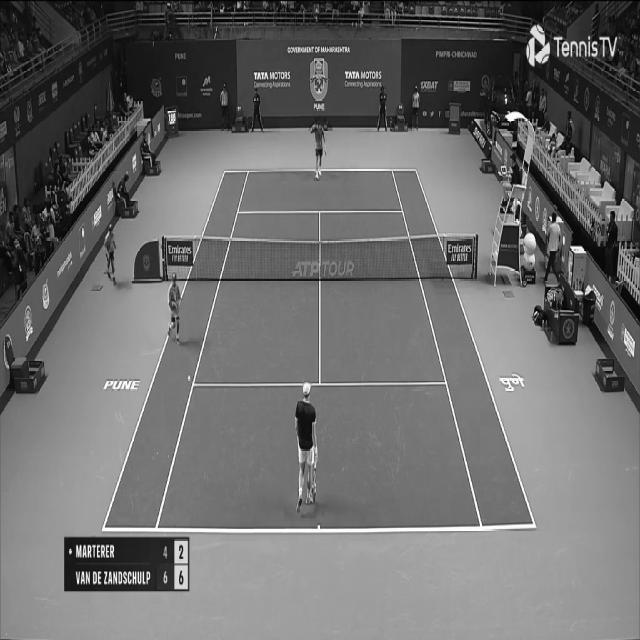tennis-court: (101, 170, 537, 532)
